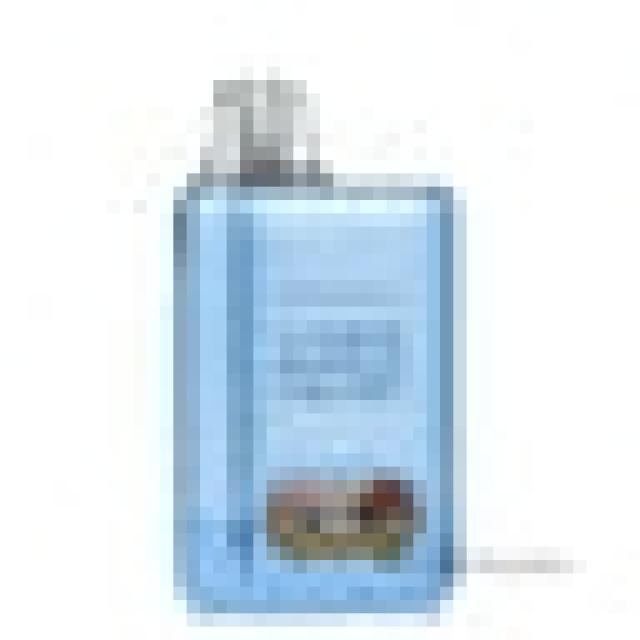Vapes: (160, 67, 453, 613)
